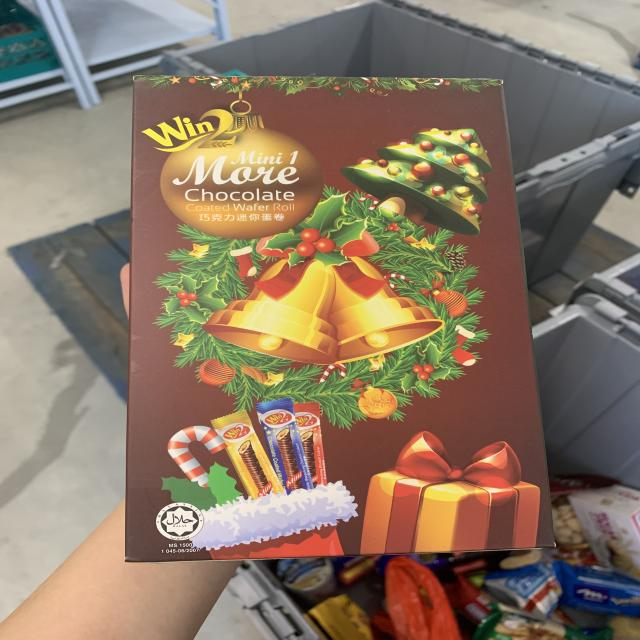object_name: (140, 75, 538, 551)
